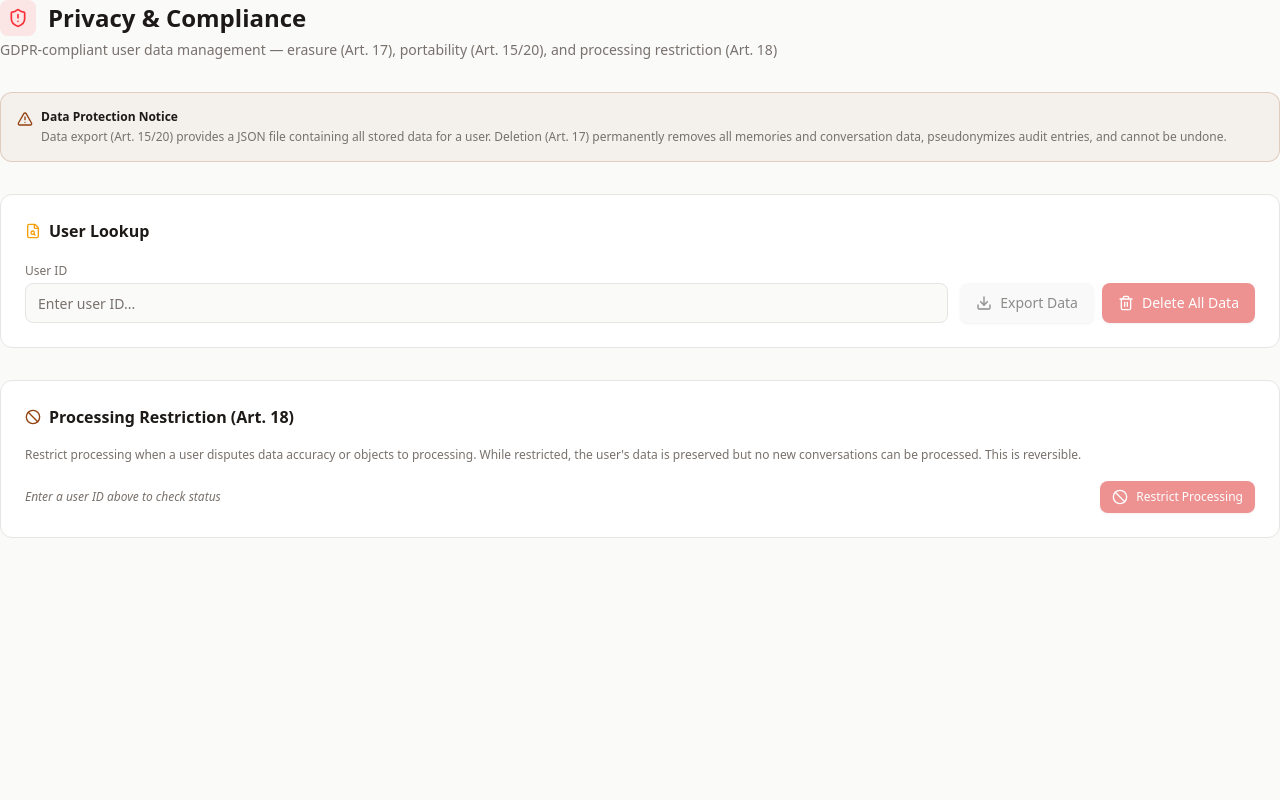
Test: GDPR Privacy Admin Page › shows confirmation dialog when delete is clicked
Type "user-123" into the field with test id "gdpr-user-id" at (487, 303), box [25,283,948,323]
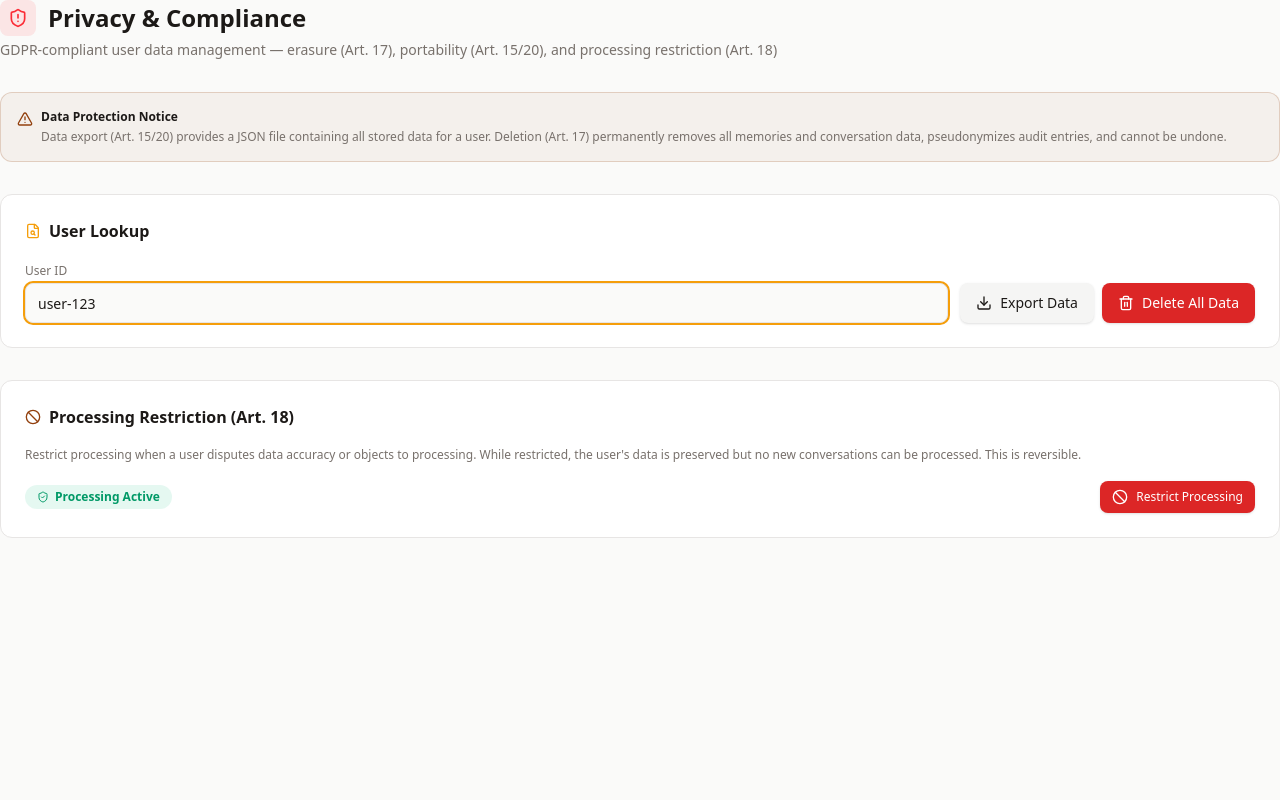
expect the button with test id "gdpr-delete-btn" is enabled: met
Click the button with test id "gdpr-delete-btn" at (1178, 303), box [1102,283,1255,323]
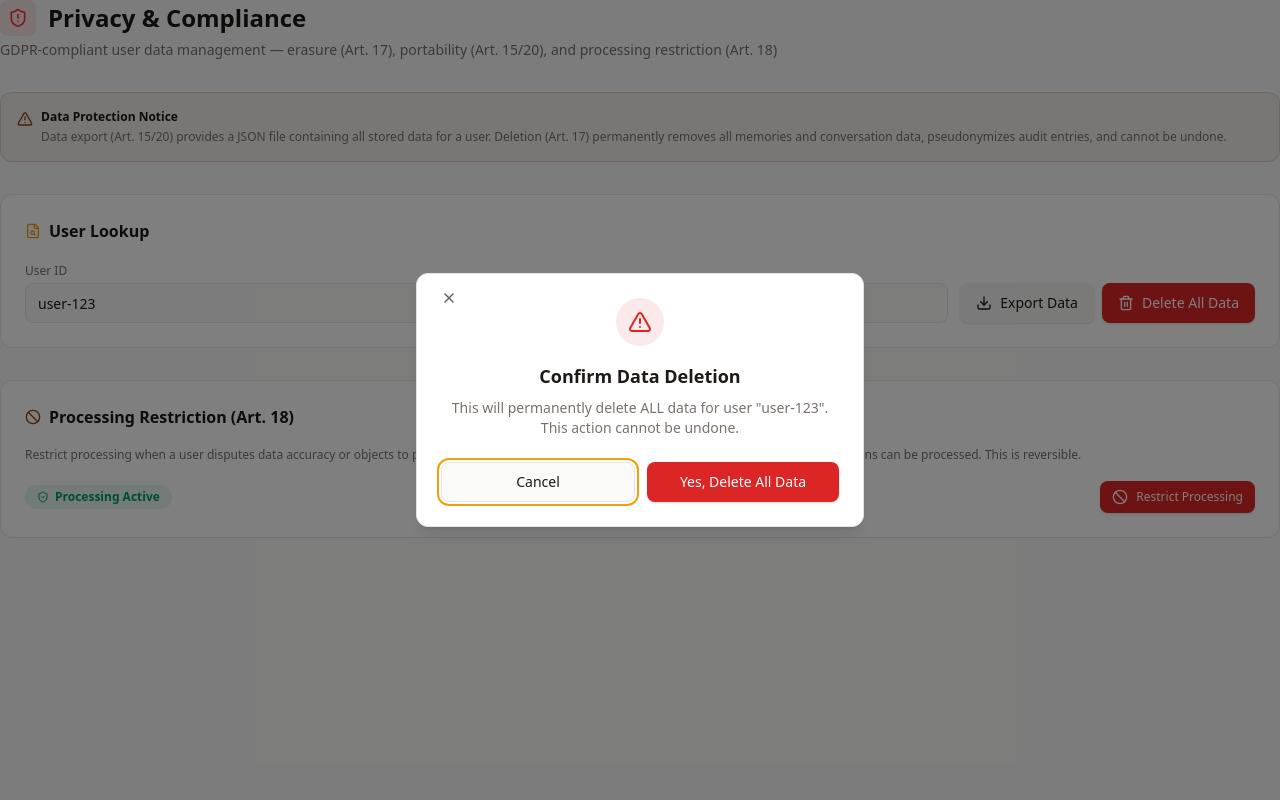
expect the heading "Confirm Data Deletion" is shown: met, box [539,364,741,388]
